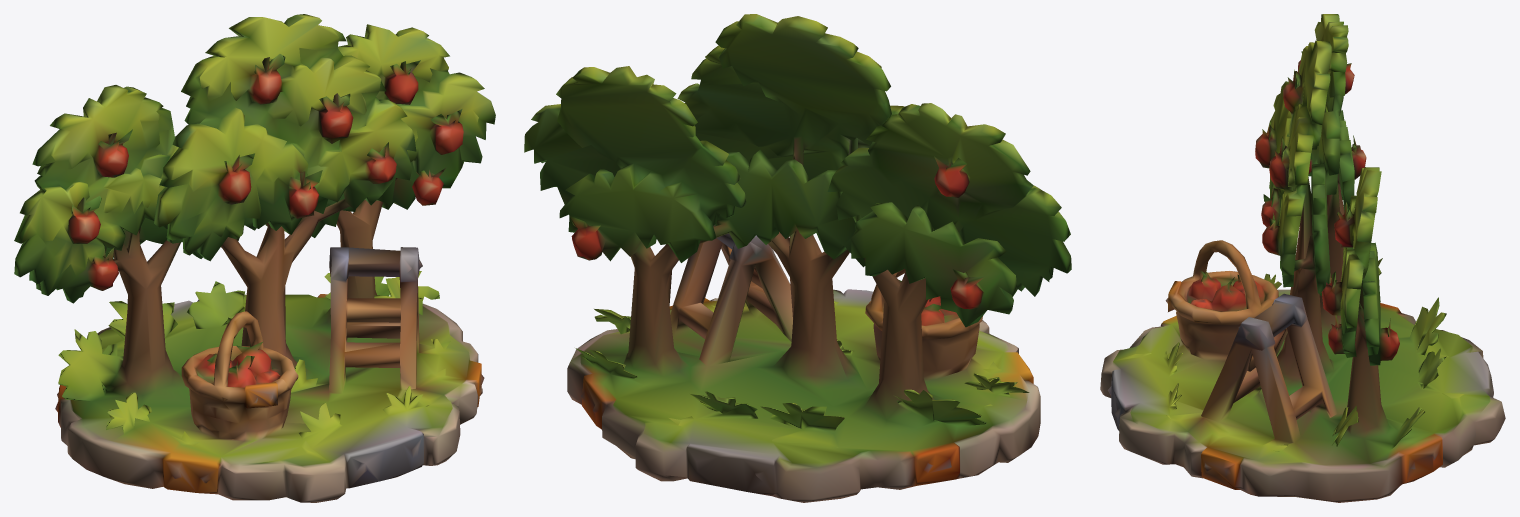
File: orchard-CDQ01aJW.glb
3 renders of one model, left to right at view 1: azimuth 30°, elevation 25°; view 2: azimuth 150°, elevation 25°; view 3: azimuth 270°, elevation 25°, orthographic. The views are drawn at different scales.
Parts seen in each view (by area): view 1: tripo_node_c664cad8-249f-4c25-a5bc-6244291f5bf0; view 2: tripo_node_c664cad8-249f-4c25-a5bc-6244291f5bf0; view 3: tripo_node_c664cad8-249f-4c25-a5bc-6244291f5bf0.
Boxes of the visible parts, box(x1,y1,x2,y2) form: tripo_node_c664cad8-249f-4c25-a5bc-6244291f5bf0: box(14, 14, 495, 502); tripo_node_c664cad8-249f-4c25-a5bc-6244291f5bf0: box(524, 14, 1071, 502); tripo_node_c664cad8-249f-4c25-a5bc-6244291f5bf0: box(1100, 14, 1505, 502).
Bounding box in the file's own units: 0.9782 × 0.7252 × 0.727.
